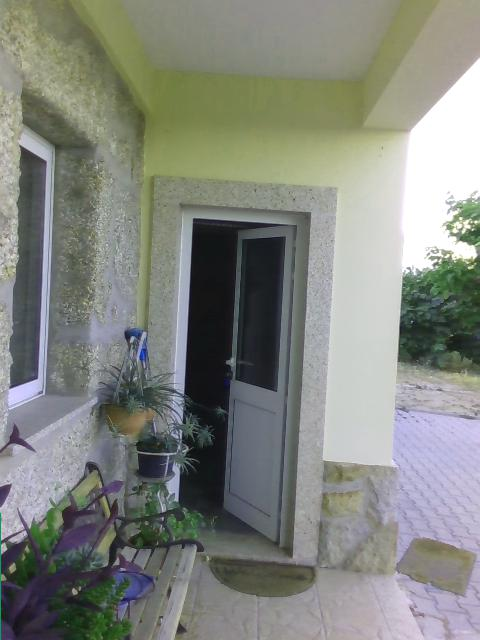semi_door: (162, 204, 310, 576)
